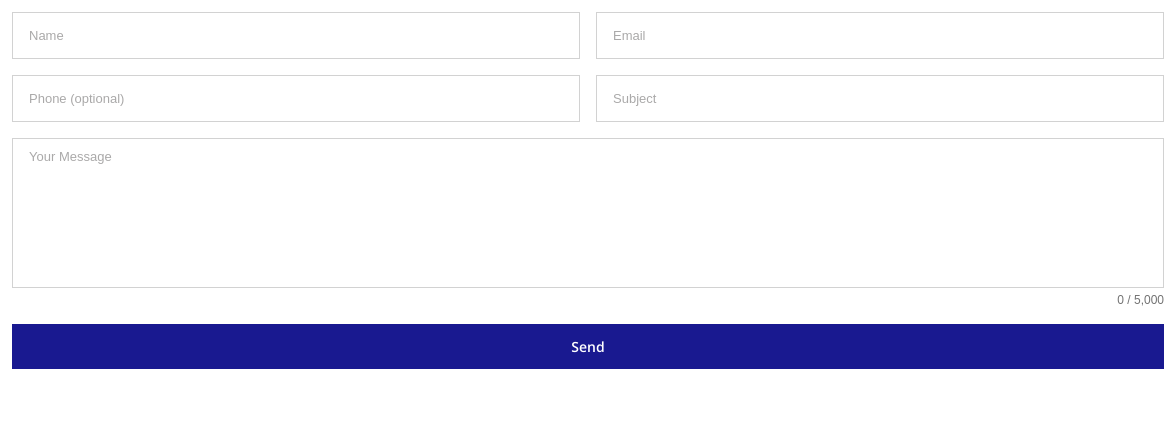
it: ContactForm › shows the rate-limited banner on 429 and keeps the values
The width and height of the screenshot is (1176, 438).
Type "Ali Khan" into the field labelled "Name" at {"x": 296, "y": 36}, box [12,12,580,59]
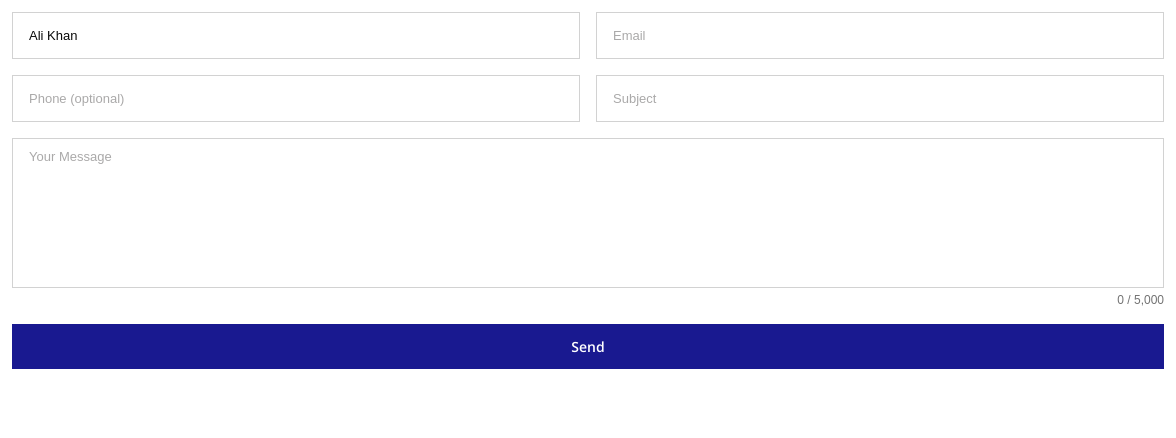
Type "ali@example.com" into the field labelled "Email" at {"x": 880, "y": 36}, box [596,12,1164,59]
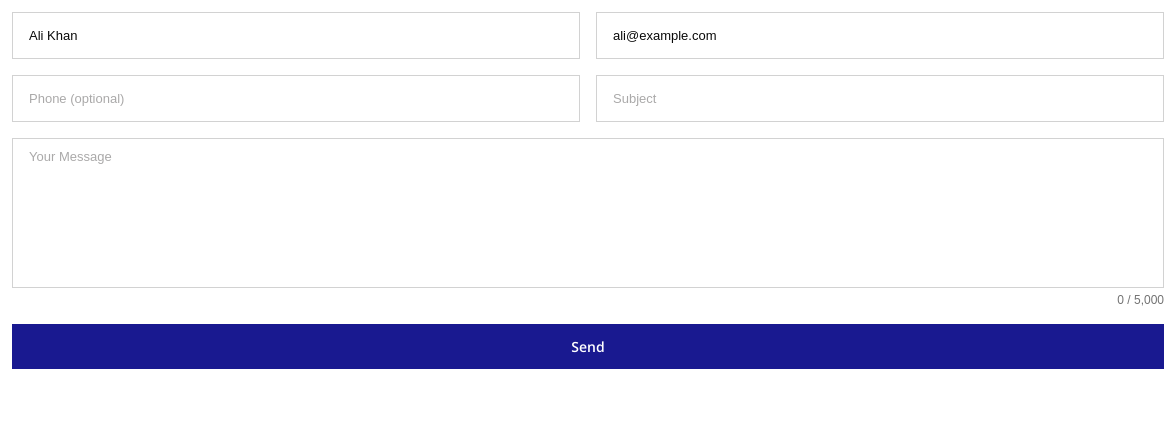
Type "Admission" into the field labelled "Subject" at {"x": 880, "y": 98}, box [596,75,1164,122]
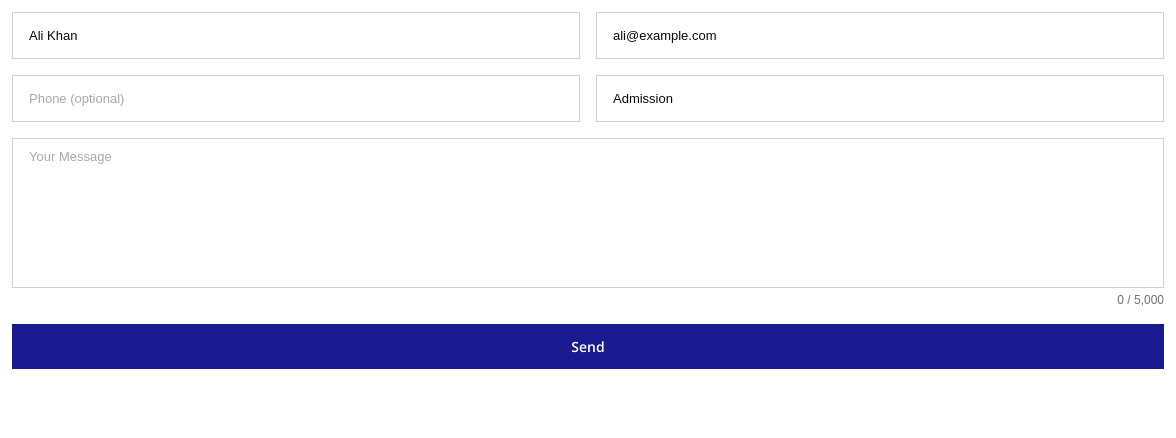
Type "Hello there." into the text box labelled "Your Message" at {"x": 588, "y": 213}, box [12,138,1164,288]
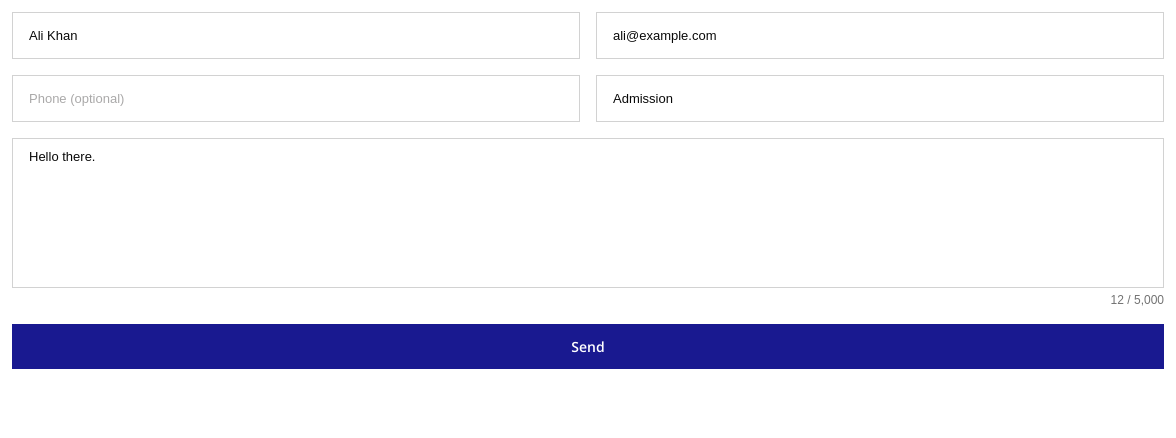
Click the button "Send" at {"x": 588, "y": 346}, box [12,324,1164,369]
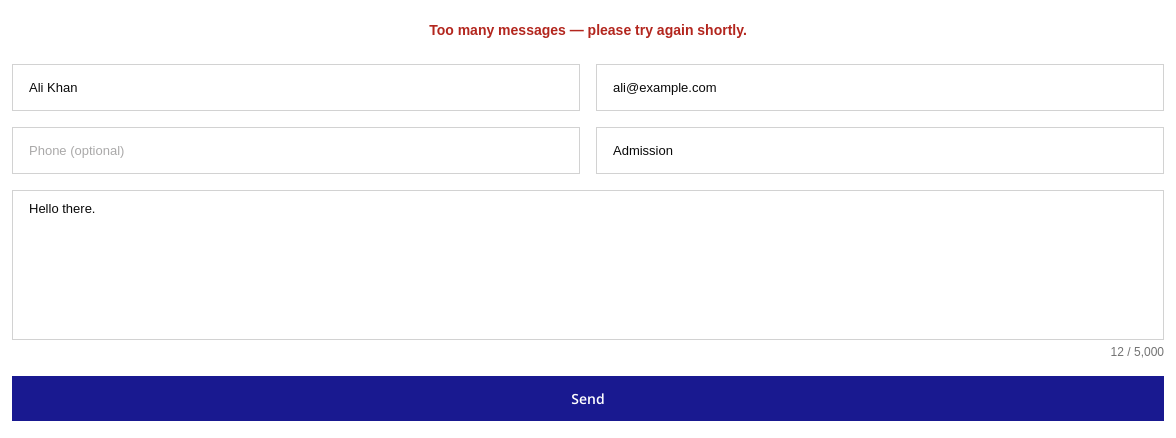
Expected: the message shows "Too many messages", [429,22,747,38]
